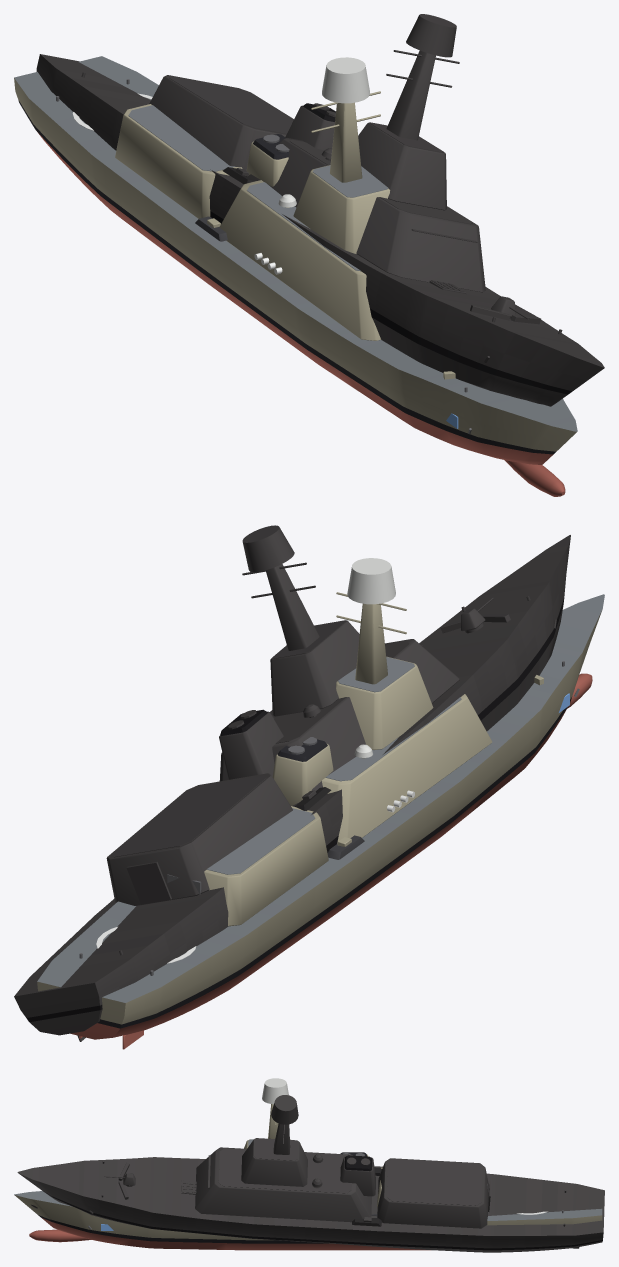
Rendered from corvette__gowind_2500.glb.
3 renders of one model, top to bottom at view 1: azimuth 30°, elevation 25°; view 2: azimuth 150°, elevation 25°; view 3: azimuth 270°, elevation 25°, orthographic. The views are drawn at different scales.
Visible parts, largest first — view 1: Hull_Mesh, Wreck; view 2: Hull_Mesh, Wreck; view 3: Wreck, Hull_Mesh.
Part boxes in pixels (bbox=[...]): Hull_Mesh: bbox=[14, 56, 577, 496]; Wreck: bbox=[36, 14, 604, 406]; Hull_Mesh: bbox=[37, 558, 604, 1049]; Wreck: bbox=[14, 525, 570, 1041]; Wreck: bbox=[17, 1095, 604, 1252]; Hull_Mesh: bbox=[14, 1078, 602, 1250].
Size of what is drawn, in the model's own units: 22.27 by 34.17 by 107.
